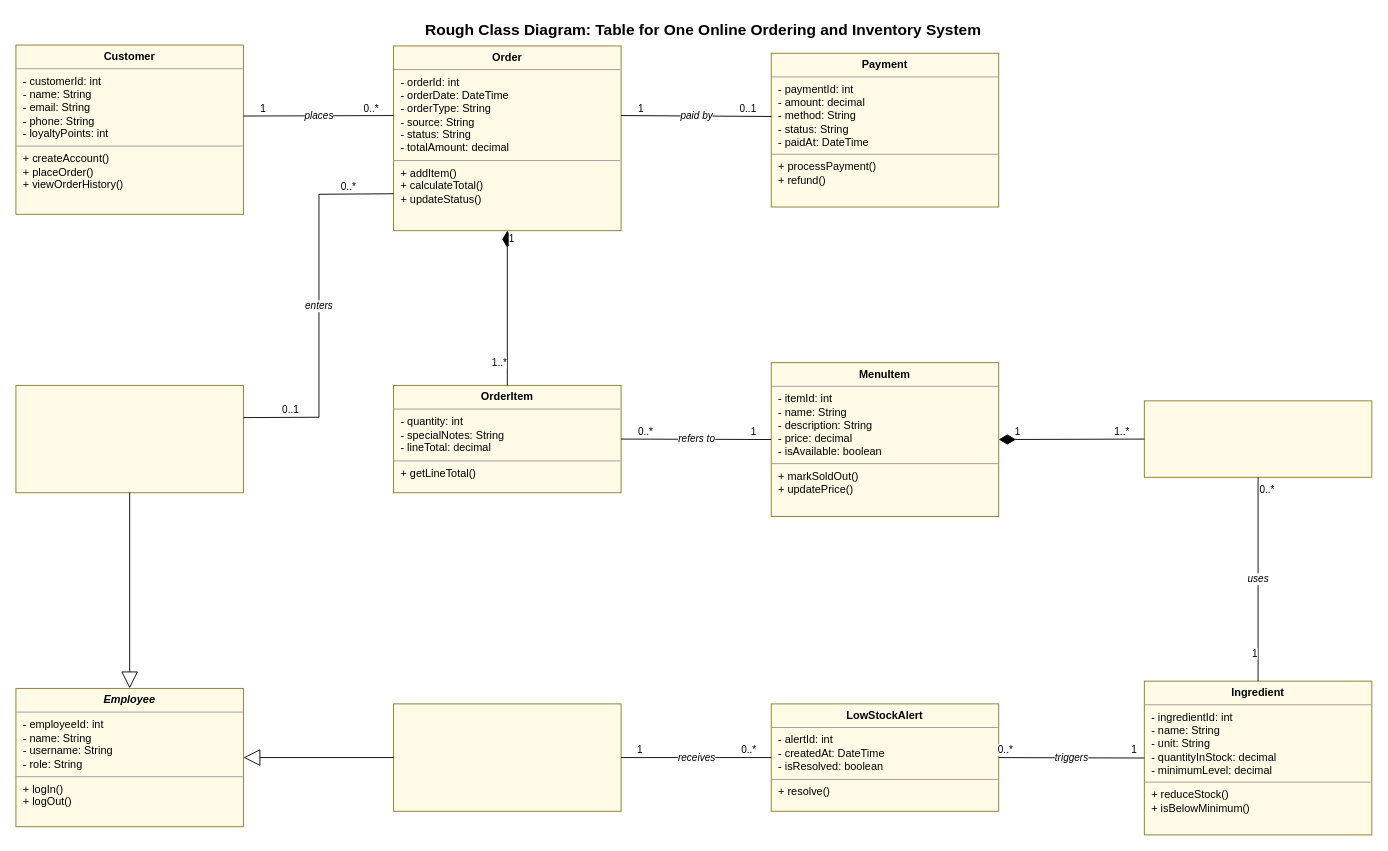
Some shapes in this 1388 by 851 pixel diagram are drawn without their labels. The shapes that lost their labels are listed below. From the top down, each one's centre as x and y in pixels, then its label:
the point at 129,438: Staff - shift: String + enterOrder() + acceptPayment() + markOrderReady()
the point at 1257,438: RecipeIngredient - quantityNeeded: decimal + getAmountUsed()
the point at 507,757: Manager + manageMenu() + updateStock() + viewSalesReport()
